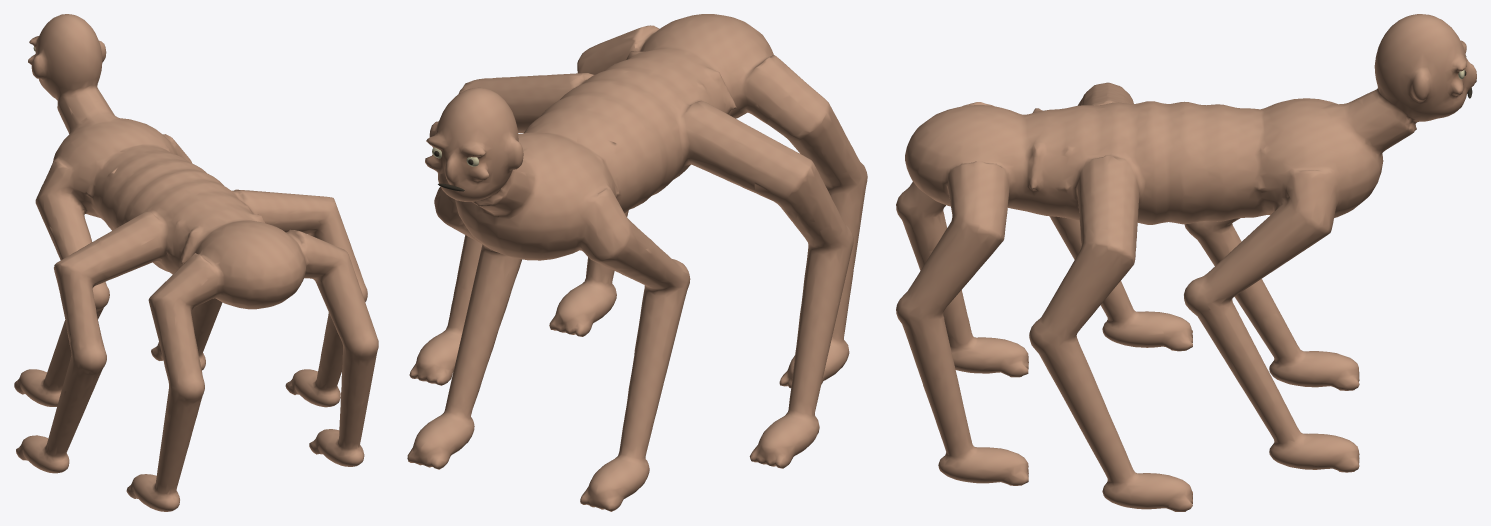
3 views of the same model, side by side, from view 1: azimuth 30°, elevation 25°; view 2: azimuth 150°, elevation 25°; view 3: azimuth 270°, elevation 25° (orthographic). The views are drawn at different scales.
Size of the model in its own units: 1.46 by 1.55 by 1.99.
Materials: 1 (1 with a texture image).
